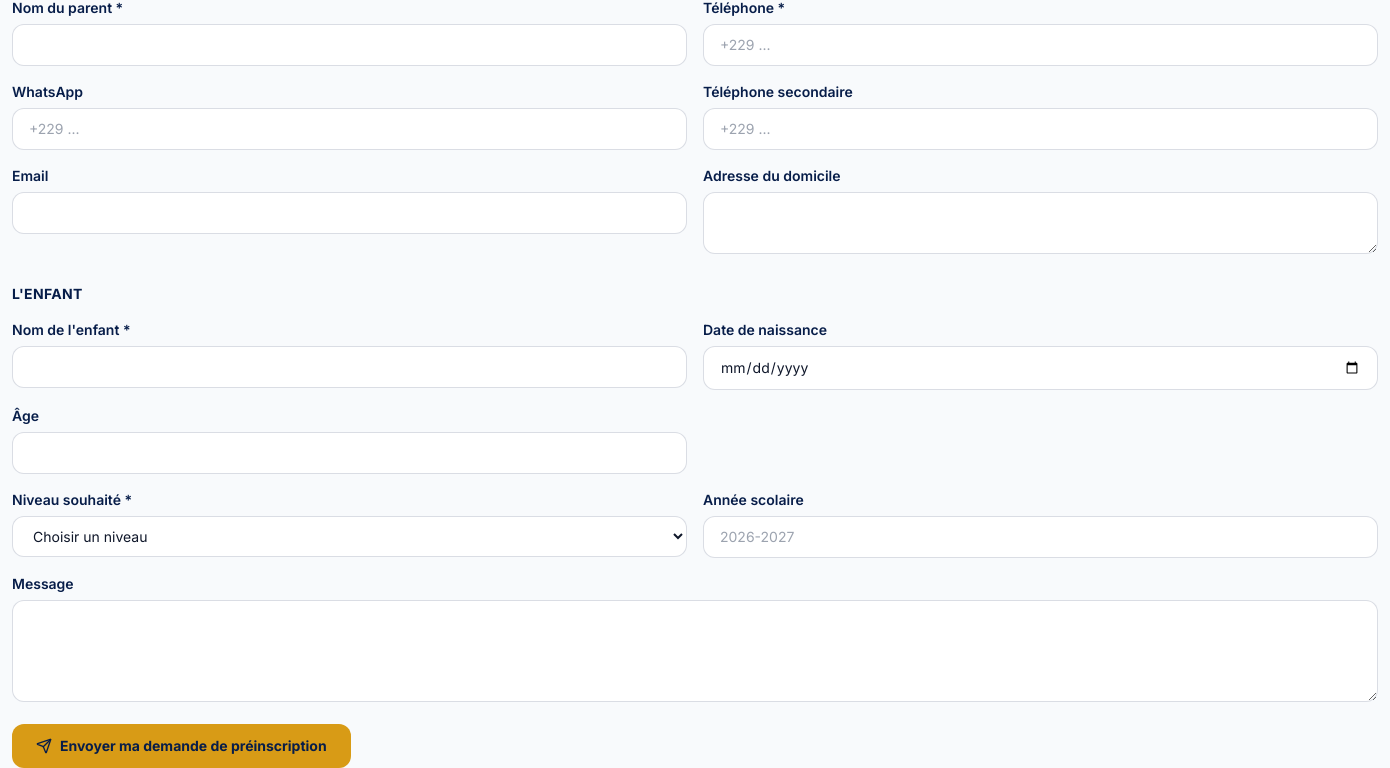
Site vitrine - formulaire de préinscription › exige parent, téléphone, enfant et niveau
(page scrolled)
Click the button "Envoyer ma demande de préinscription": (181, 746) [12,724,351,767]
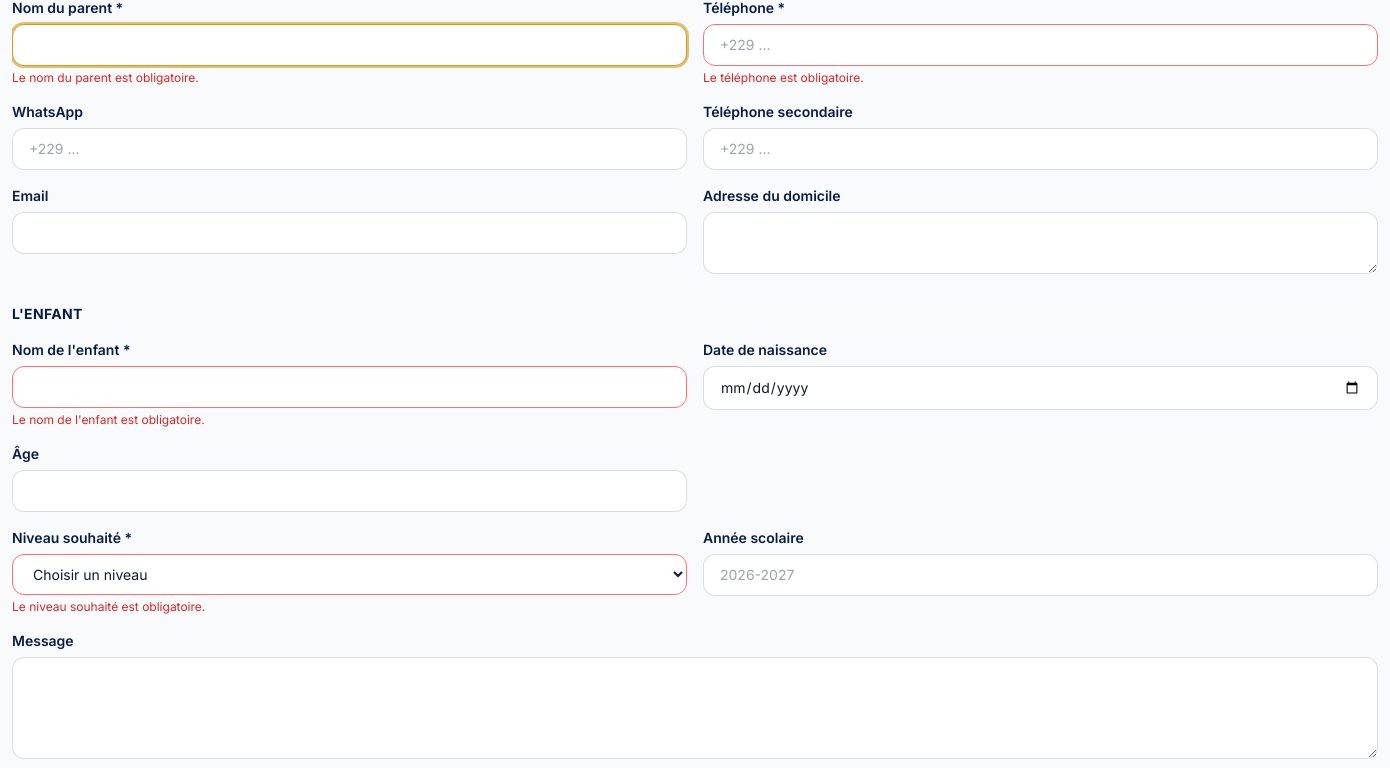
Expected: the text "Le nom du parent est obligatoire." is shown, [12,70,199,85]
Expected: the text "Le téléphone est obligatoire." is shown, [703,70,864,85]
Expected: the text "Le nom de l'enfant est obligatoire." is shown, [12,412,205,427]
